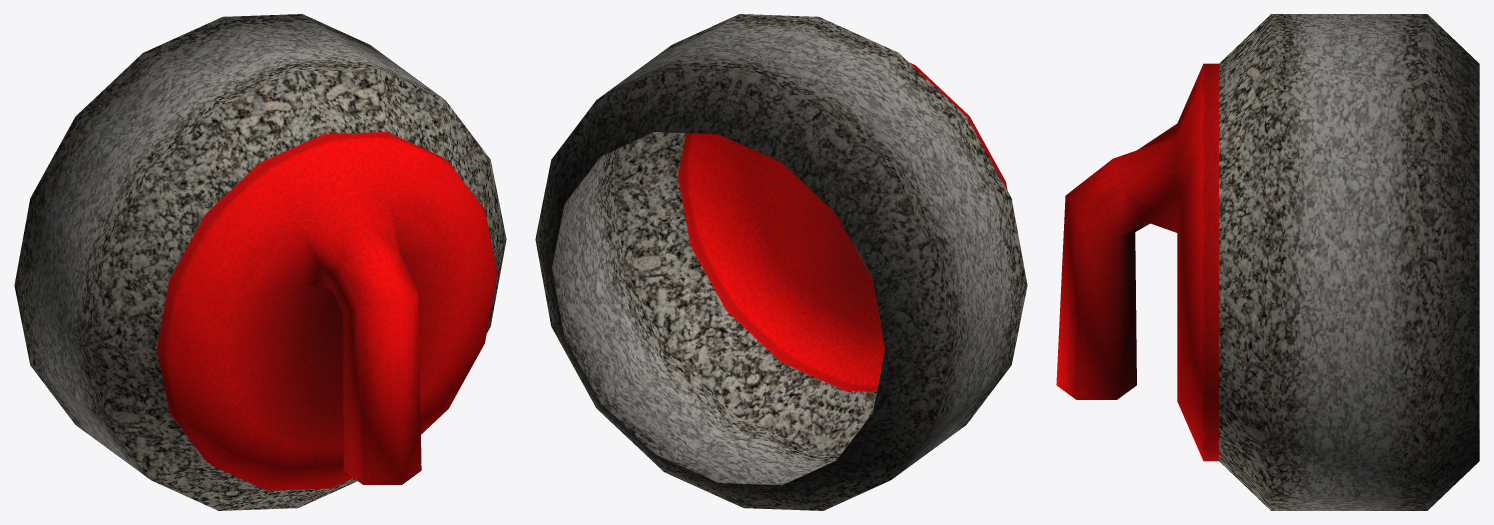
File: StoneRed.fbx
The picture shows the model from 3 angles, left to right: view 1: azimuth 30°, elevation 25°; view 2: azimuth 150°, elevation 25°; view 3: azimuth 270°, elevation 25°; orthographic projection. The views are drawn at different scales.
Parts seen in each view (by area): view 1: Stone_Red_001; view 2: Stone_Red_001; view 3: Stone_Red_001.
Part boxes in pixels (box(x1,y1,x2,y2)): Stone_Red_001: box(14, 14, 506, 510); Stone_Red_001: box(535, 14, 1027, 510); Stone_Red_001: box(1056, 14, 1479, 510).
Bounding box in the file's own units: 0.2913 × 0.2913 × 0.2477.
